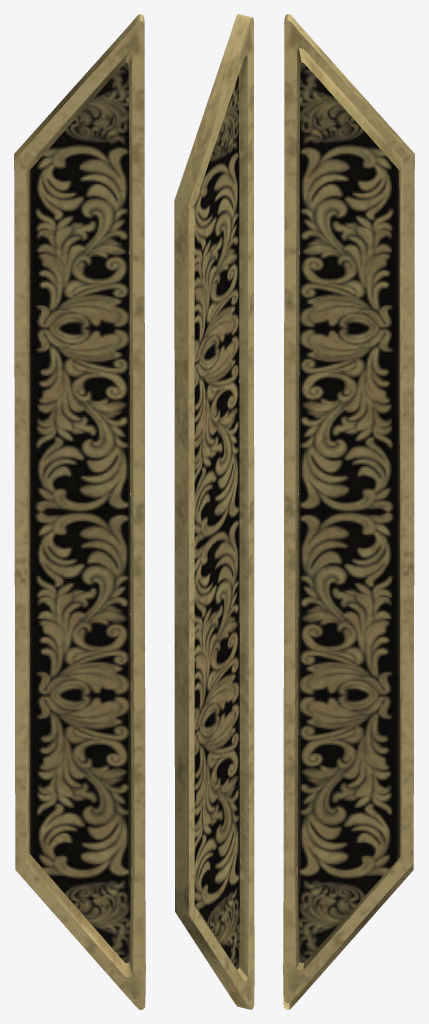
File: SM_MetalPanel_02.fbx
3 views of the same model, side by side, from view 1: azimuth 90°, elevation 25°; view 2: azimuth 150°, elevation 25°; view 3: azimuth 270°, elevation 25° (orthographic).
Parts seen in each view (by area): view 1: SM_MetalPanel_02_LOD0; view 2: SM_MetalPanel_02_LOD0; view 3: SM_MetalPanel_02_LOD0.
Boxes of the visible parts, <box> form: SM_MetalPanel_02_LOD0: <box>14,14,145,1009</box>; SM_MetalPanel_02_LOD0: <box>174,14,254,1009</box>; SM_MetalPanel_02_LOD0: <box>283,14,414,1009</box>.
Size of the model in its own units: 1.27 by 10.24 by 84.85.
